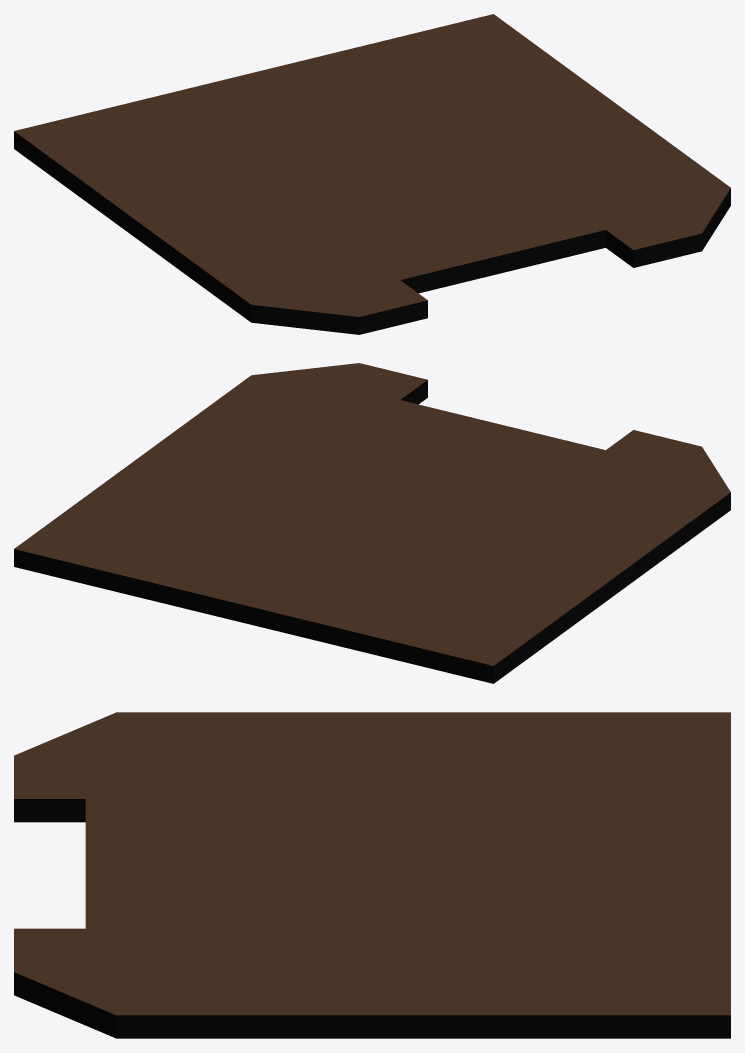
Rendered from Floor_Room_2.fbx.
The picture shows the model from 3 angles, top to bottom: view 1: azimuth 30°, elevation 25°; view 2: azimuth 150°, elevation 25°; view 3: azimuth 270°, elevation 25°; orthographic projection. The views are drawn at different scales.
Visible parts, largest first — view 1: Floor_Room_2; view 2: Floor_Room_2; view 3: Floor_Room_2.
Part boxes in pixels (x1,y1,x2,y2): Floor_Room_2: (14,14,730,334); Floor_Room_2: (14,363,730,683); Floor_Room_2: (14,712,730,1038).
Bounding box in the file's own units: 7 × 7 × 0.25.
